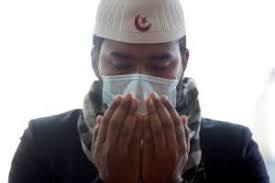Wearing Mask: (77, 0, 207, 160)
